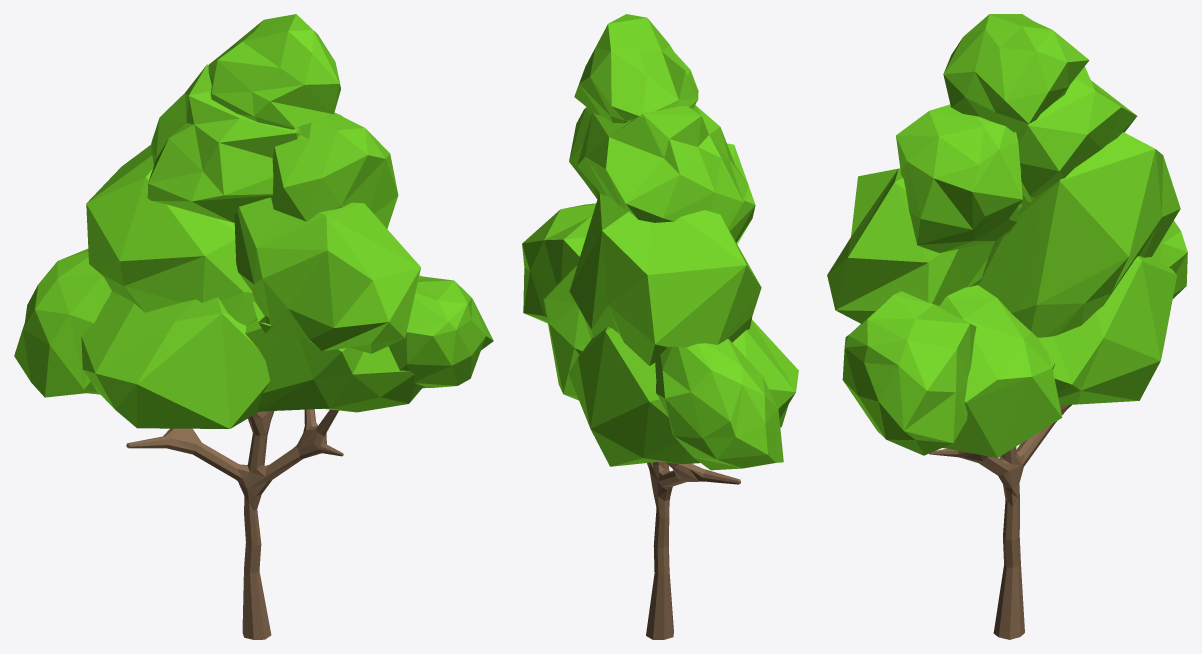
File: Tree_11.fbx
3 views of the same model, side by side, from view 1: azimuth 30°, elevation 25°; view 2: azimuth 150°, elevation 25°; view 3: azimuth 270°, elevation 25° (orthographic). The views are drawn at different scales.
Visible parts, largest first — view 1: Tree_11; view 2: Tree_11; view 3: Tree_11.
Part boxes in pixels (left/top/right/bottom): Tree_11: left=14, top=14, right=493, bottom=639; Tree_11: left=522, top=14, right=798, bottom=639; Tree_11: left=827, top=14, right=1187, bottom=639.
Bounding box in the file's own units: 305 × 488 × 253.
